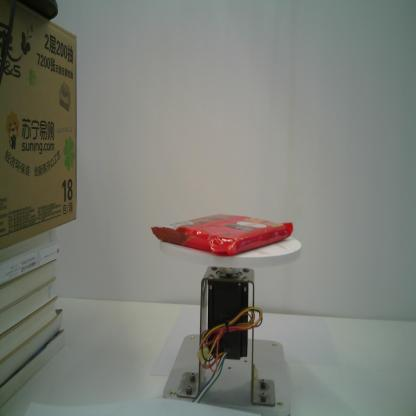Dessert: (151, 212, 294, 258)
